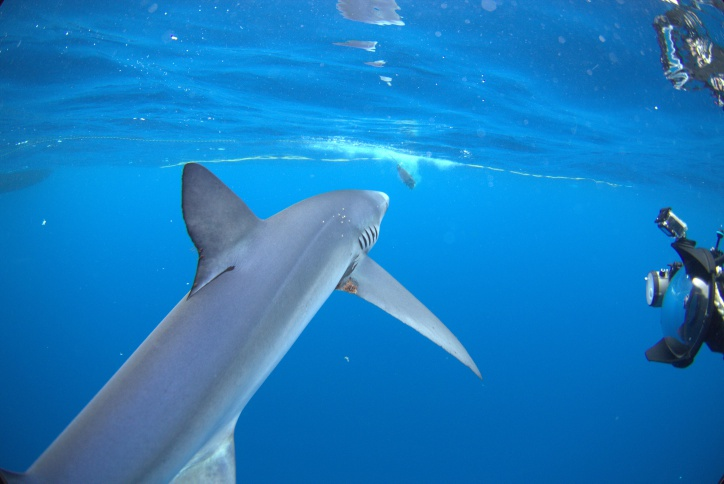Azul: (1, 159, 492, 484)
